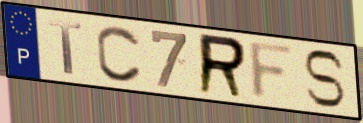7: (149, 28, 190, 89)
C: (94, 23, 145, 85)
F: (247, 39, 298, 103)
R: (196, 31, 249, 101)
S: (301, 48, 347, 110)
T: (47, 18, 85, 77)
